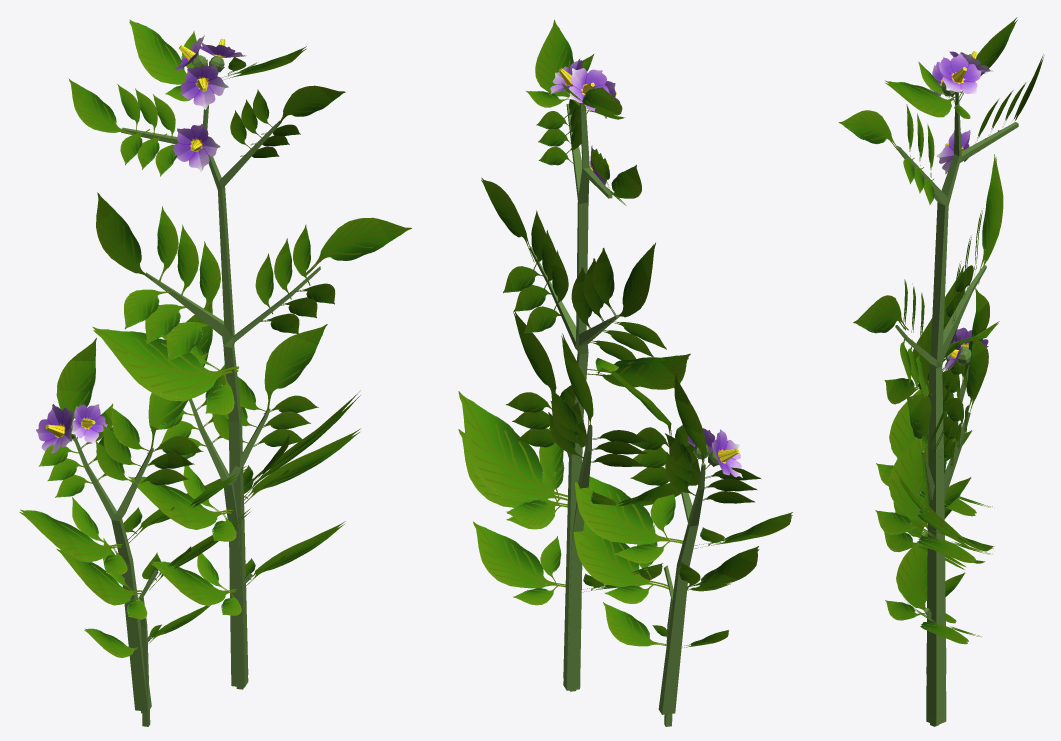
Rendered from Potato.fbx.
The picture shows the model from 3 angles, left to right: view 1: azimuth 30°, elevation 25°; view 2: azimuth 150°, elevation 25°; view 3: azimuth 270°, elevation 25°; orthographic projection. The views are drawn at different scales.
Parts seen in each view (by area): view 1: Adultpotato, TeenPotato, BBPotato; view 2: Adultpotato, TeenPotato, BBPotato; view 3: Adultpotato, TeenPotato, BBPotato.
Boxes of the visible parts, bbox=[...] form: Adultpotato: bbox=[19, 19, 411, 711]; TeenPotato: bbox=[56, 300, 360, 726]; BBPotato: bbox=[84, 521, 345, 713]; Adultpotato: bbox=[458, 19, 792, 714]; TeenPotato: bbox=[458, 311, 759, 726]; BBPotato: bbox=[473, 521, 728, 714]; Adultpotato: bbox=[838, 17, 1044, 718]; TeenPotato: bbox=[875, 334, 992, 725]; BBPotato: bbox=[885, 533, 982, 726].
Size of the model in its own units: 164 by 292 by 81.11.
